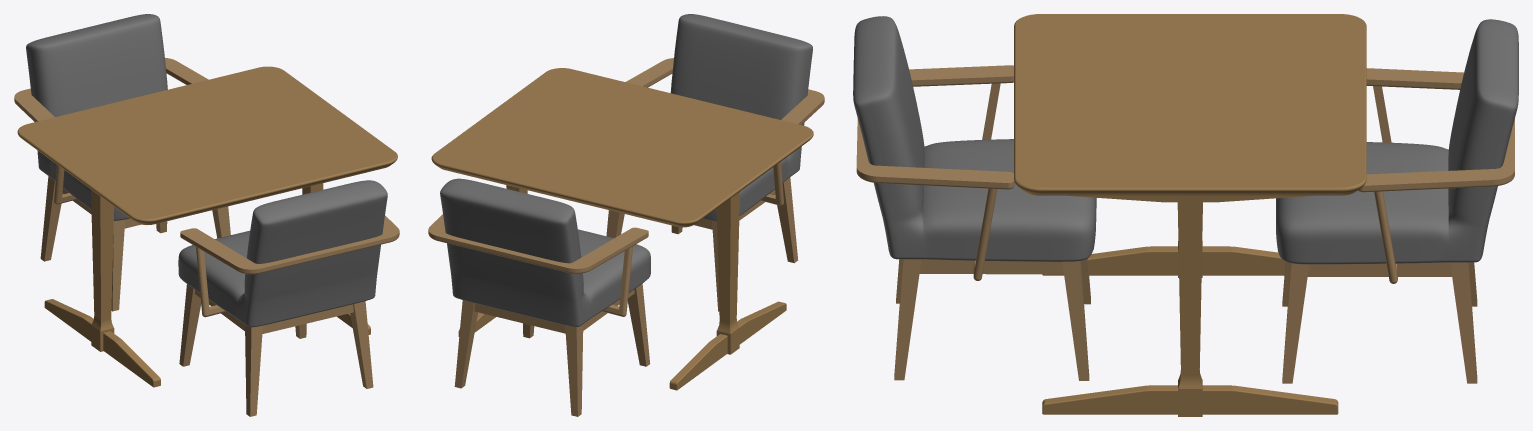
The model's file is 550_ダイニングテーブルセット2人掛け.glb.
3 views of the same model, side by side, from view 1: azimuth 30°, elevation 25°; view 2: azimuth 150°, elevation 25°; view 3: azimuth 270°, elevation 25° (orthographic). The views are drawn at different scales.
Visible parts, largest first — view 1: Body, dinining_sofa2, dinining_sofa1; view 2: Body, dinining_sofa1, dinining_sofa2; view 3: Body, dinining_sofa2, dinining_sofa1.
Boxes of the visible parts, <box> form: Body: <box>17,66,397,387</box>; dinining_sofa2: <box>178,180,399,416</box>; dinining_sofa1: <box>14,14,230,311</box>; Body: <box>431,68,813,390</box>; dinining_sofa1: <box>428,178,650,416</box>; dinining_sofa2: <box>606,14,824,311</box>; Body: <box>1014,14,1366,416</box>; dinining_sofa2: <box>853,16,1096,380</box>; dinining_sofa1: <box>1276,19,1518,383</box>.
Bounding box in the file's own units: 1.01 × 0.7691 × 1.62.
